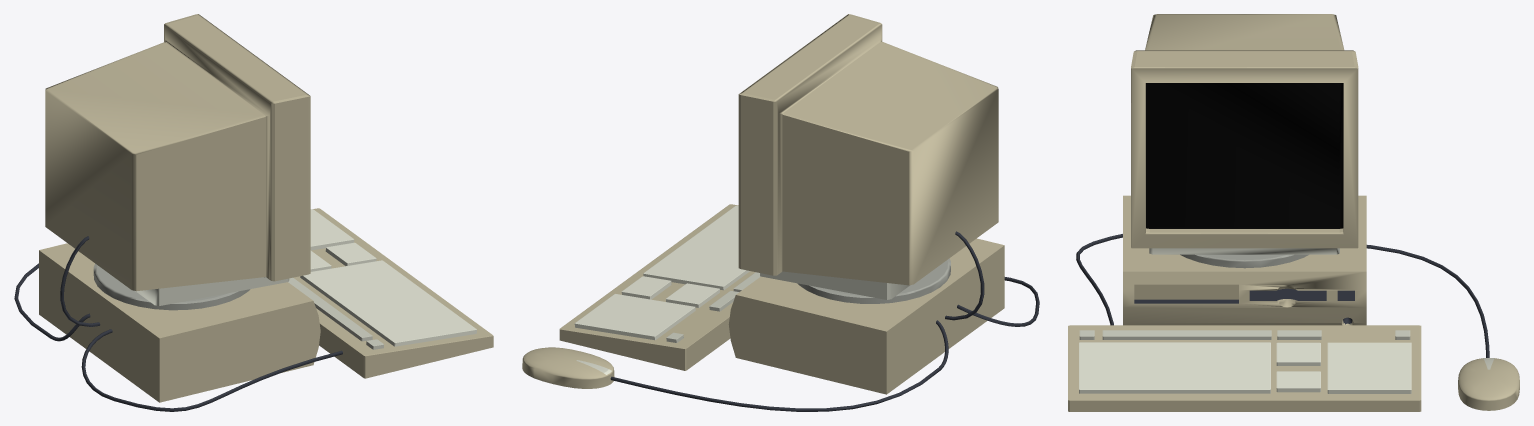
The model's file is Computer.dae.
3 renders of one model, left to right at view 1: azimuth 30°, elevation 25°; view 2: azimuth 150°, elevation 25°; view 3: azimuth 270°, elevation 25°, orthographic. The views are drawn at different scales.
Parts seen in each view (by area): view 1: Computer; view 2: Computer; view 3: Computer.
Part boxes in pixels (x1=…): Computer: x1=14, y1=14, x2=493, y2=411; Computer: x1=522, y1=14, x2=1039, y2=411; Computer: x1=1068, y1=14, x2=1519, y2=411.
Bounding box in the file's own units: 1.58 × 1.72 × 1.13.
1 material, 1 textured.
